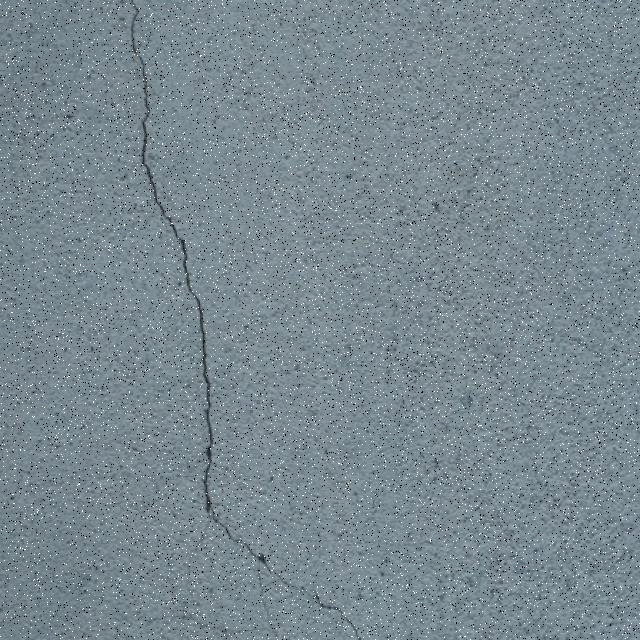minor crack: (197, 454, 296, 602)
moderate crack: (170, 230, 214, 521), (130, 3, 181, 252), (308, 589, 369, 633), (317, 598, 338, 611)
severe crack: (133, 7, 372, 632), (348, 14, 436, 627), (2, 4, 149, 283), (199, 440, 219, 520), (194, 299, 211, 375), (136, 111, 152, 183), (253, 550, 274, 574)
